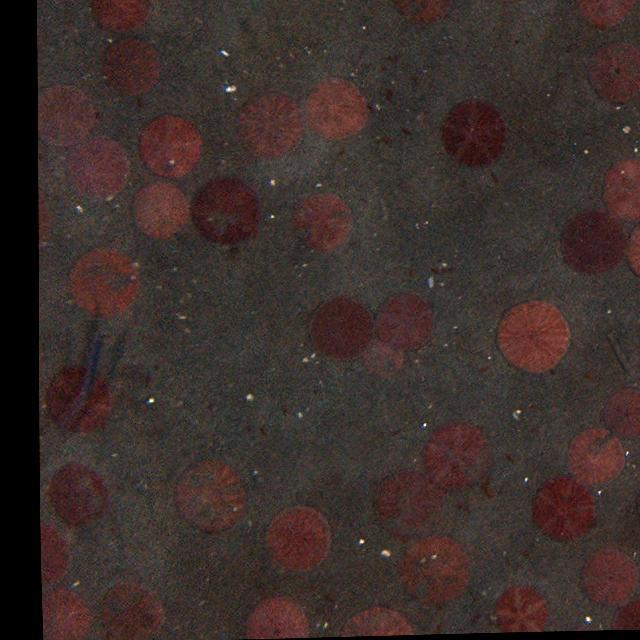roundfish: (42, 313, 107, 456)
